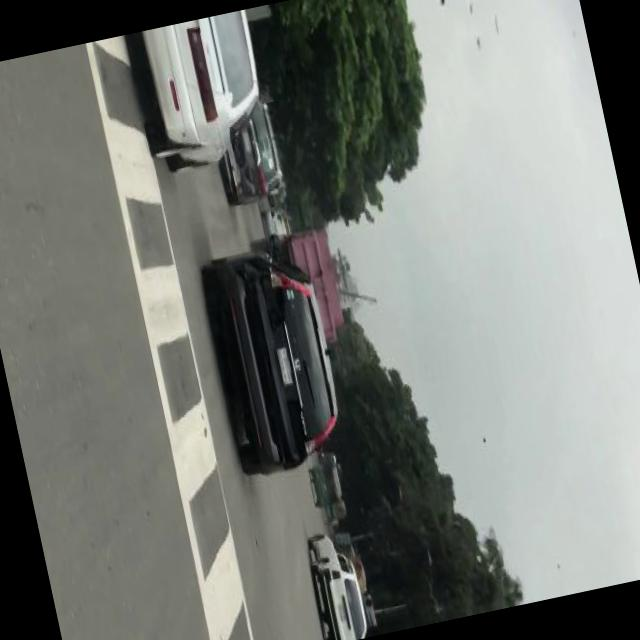car: (195, 238, 348, 474), (121, 11, 273, 162), (303, 527, 370, 640), (215, 128, 288, 210), (259, 207, 287, 240)
motorcycle: (306, 462, 344, 510), (318, 501, 349, 532)
truck: (300, 226, 352, 348)
